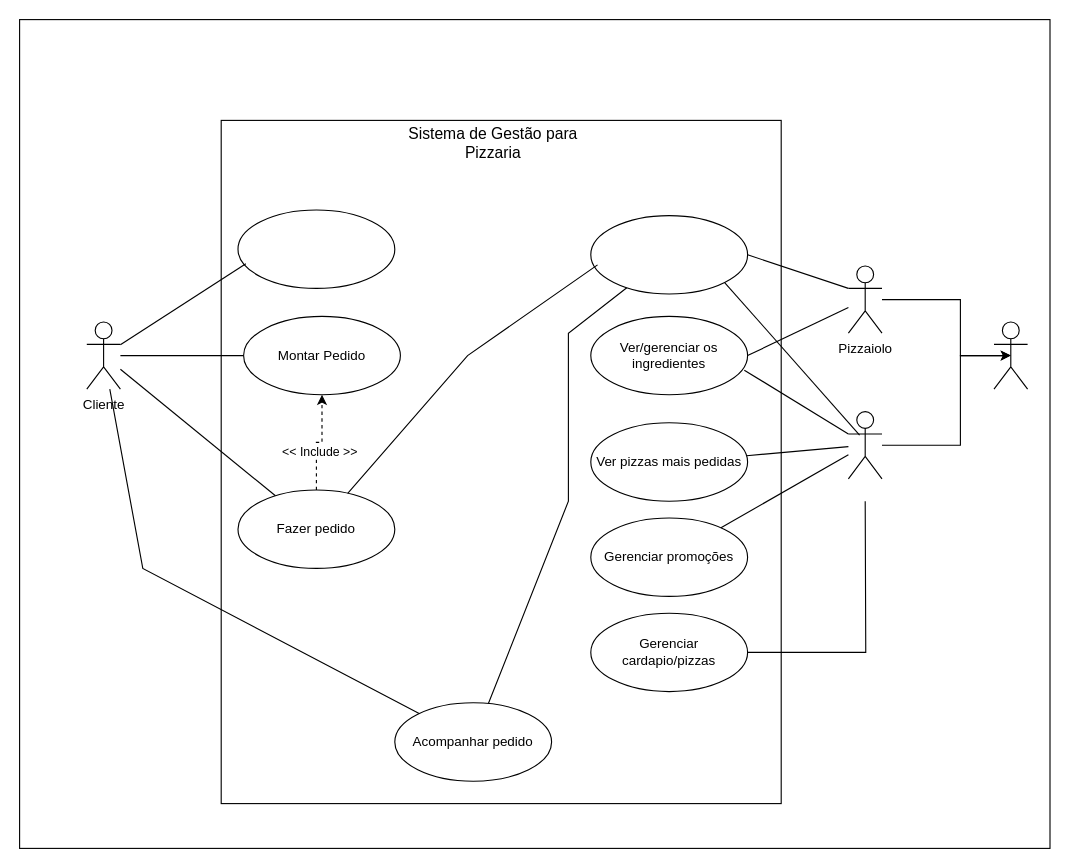
Some shapes in this 1070 by 868 pixel diagram are drawn without their labels. The centre of each missing label's shape, as x and y in pixels:
Funcionário: (x=864, y=444)
Usuário: (x=1010, y=355)
Ver cardápio: (x=316, y=248)
Ver os pedidos do Clientes: (x=669, y=254)
